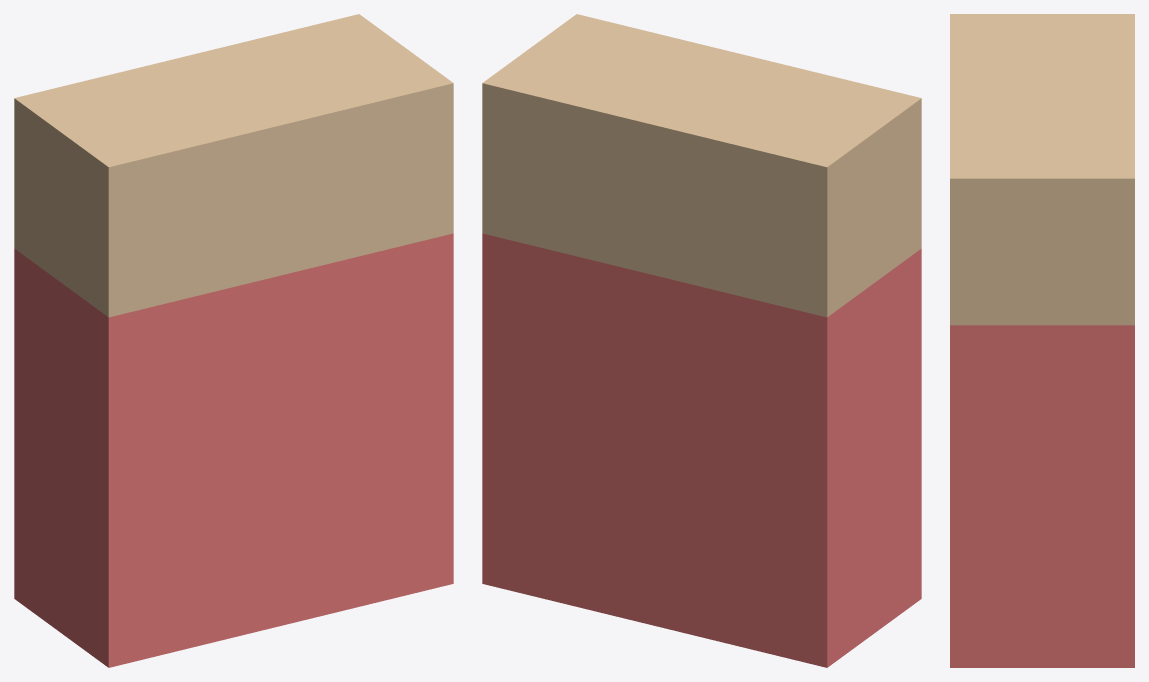
File: Ürün83.fbx
3 renders of one model, left to right at view 1: azimuth 30°, elevation 25°; view 2: azimuth 150°, elevation 25°; view 3: azimuth 270°, elevation 25°, orthographic. The views are drawn at different scales.
Parts seen in each view (by area): view 1: pCube96; view 2: pCube96; view 3: pCube96.
Boxes of the visible parts, x1,y1,x2,y2 form: pCube96: (14, 14, 453, 667); pCube96: (482, 14, 921, 667); pCube96: (950, 14, 1134, 667).
Size of the model in its own units: 23.51 by 32.6 by 11.16.
